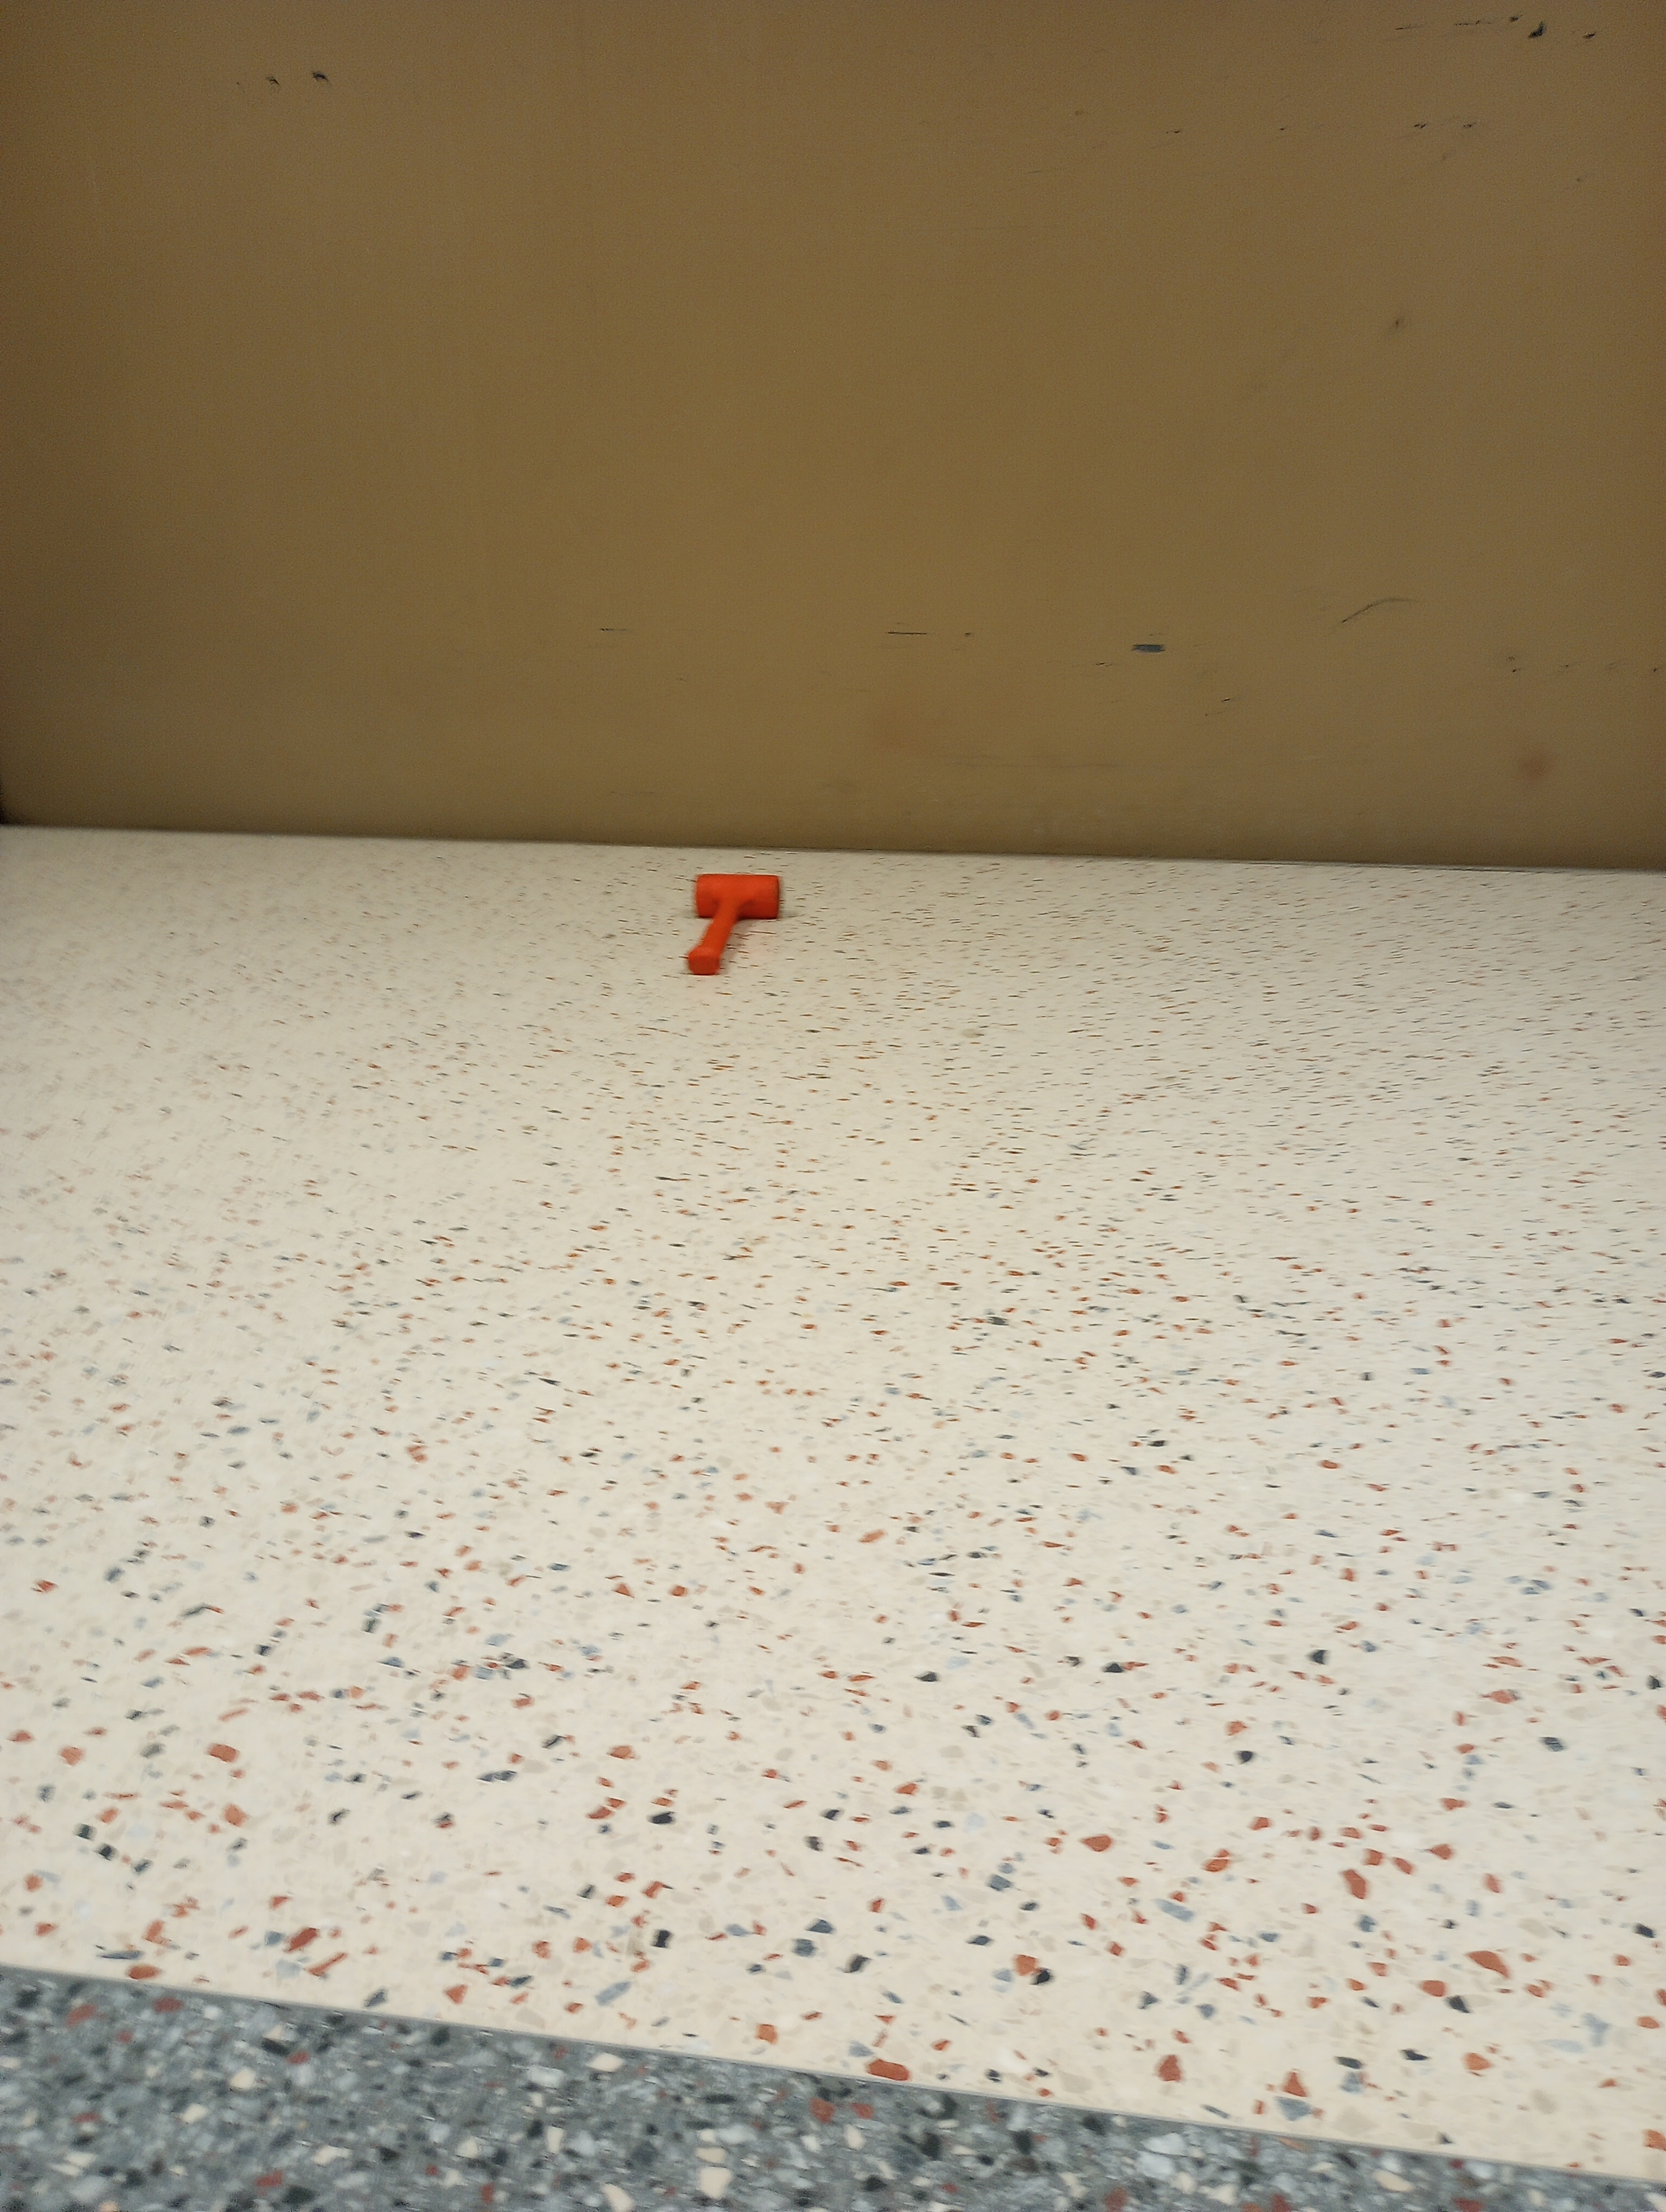bottle: (686, 864, 782, 986)
